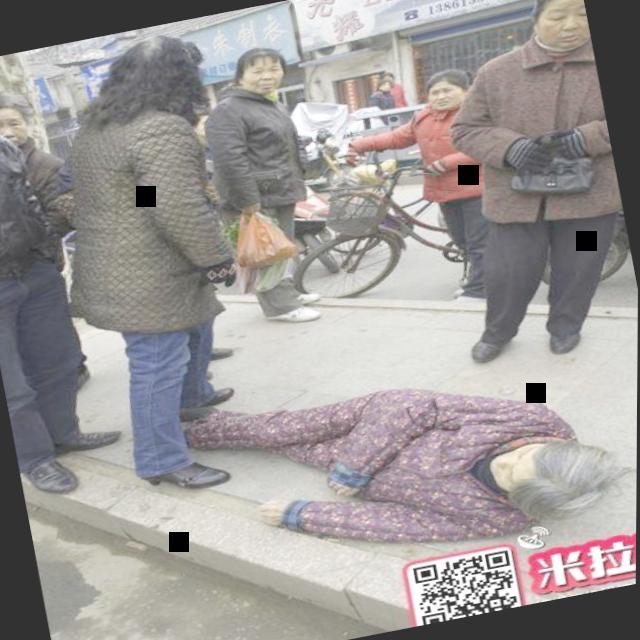Fall-Detected: (160, 299, 638, 606)
